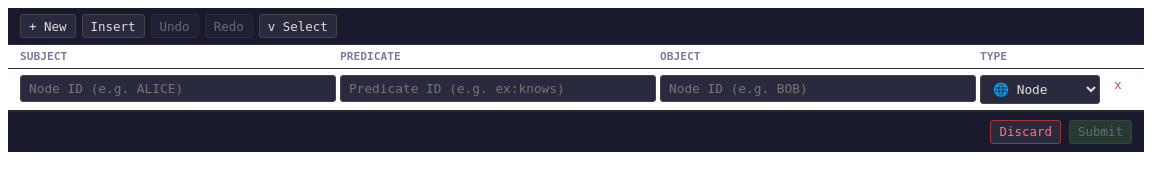
Fix 4: --flag changes type metadata › --str AFTER --int still works (regression: was broken by type=number)
The image size is (1152, 169).
In the field with placeholder "Node ID (e.g. BOB)": [818, 88] box [660,75,976,102], type "--int "
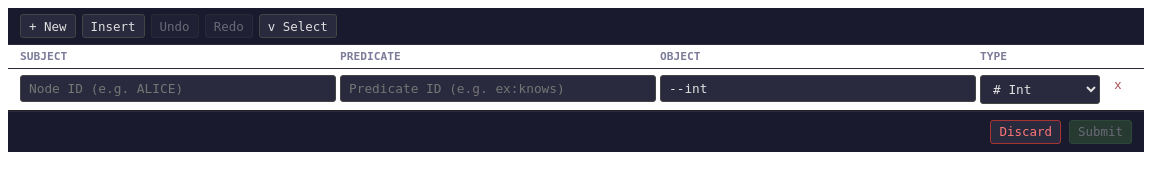
Replace the text in the 3rd field with "--str ": [818, 88] box [660,75,976,102]
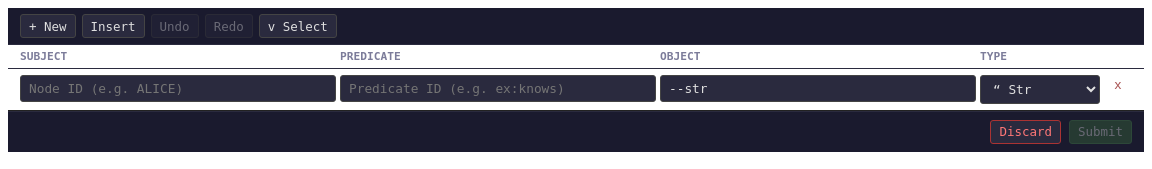
Expected: the dropdown with class "type-select" shows "“ Str", [980,75,1100,104]
